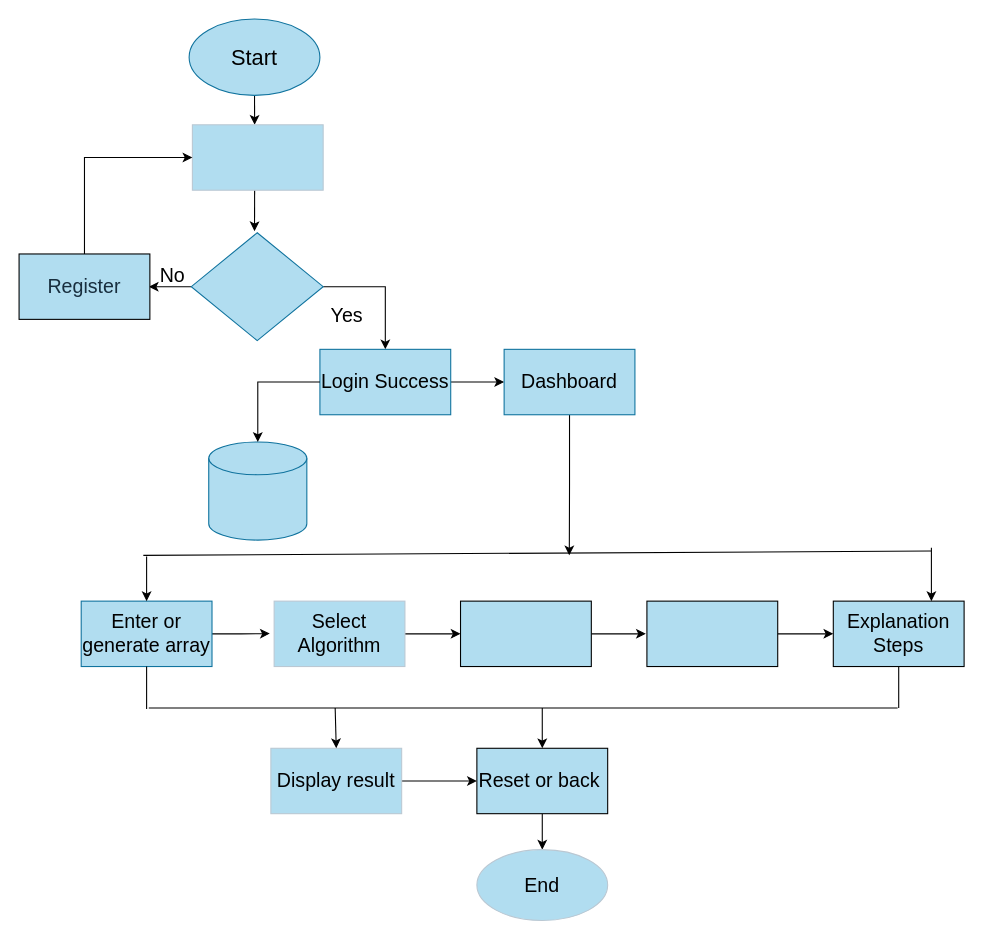
Image size: 983x940. Some labels were removed from this diagram. Each missing label, with the box of its shape:
DataBase: (208, 441, 307, 540)
Login: (191, 124, 323, 190)
Start Sorting: (459, 600, 591, 667)
Valid: (190, 232, 323, 341)
Visualization: (646, 600, 778, 667)
